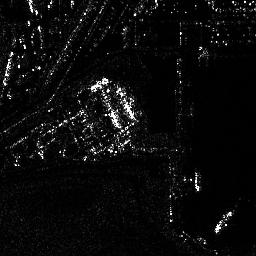ship: (214, 210, 232, 233), (192, 170, 202, 193)
